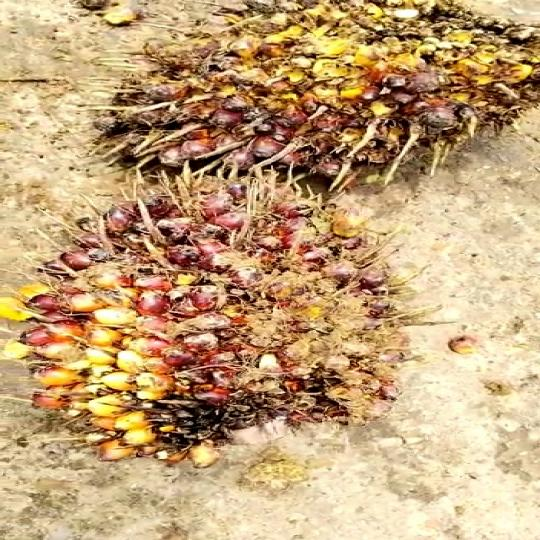masak: (8, 181, 425, 453), (62, 0, 538, 193)
